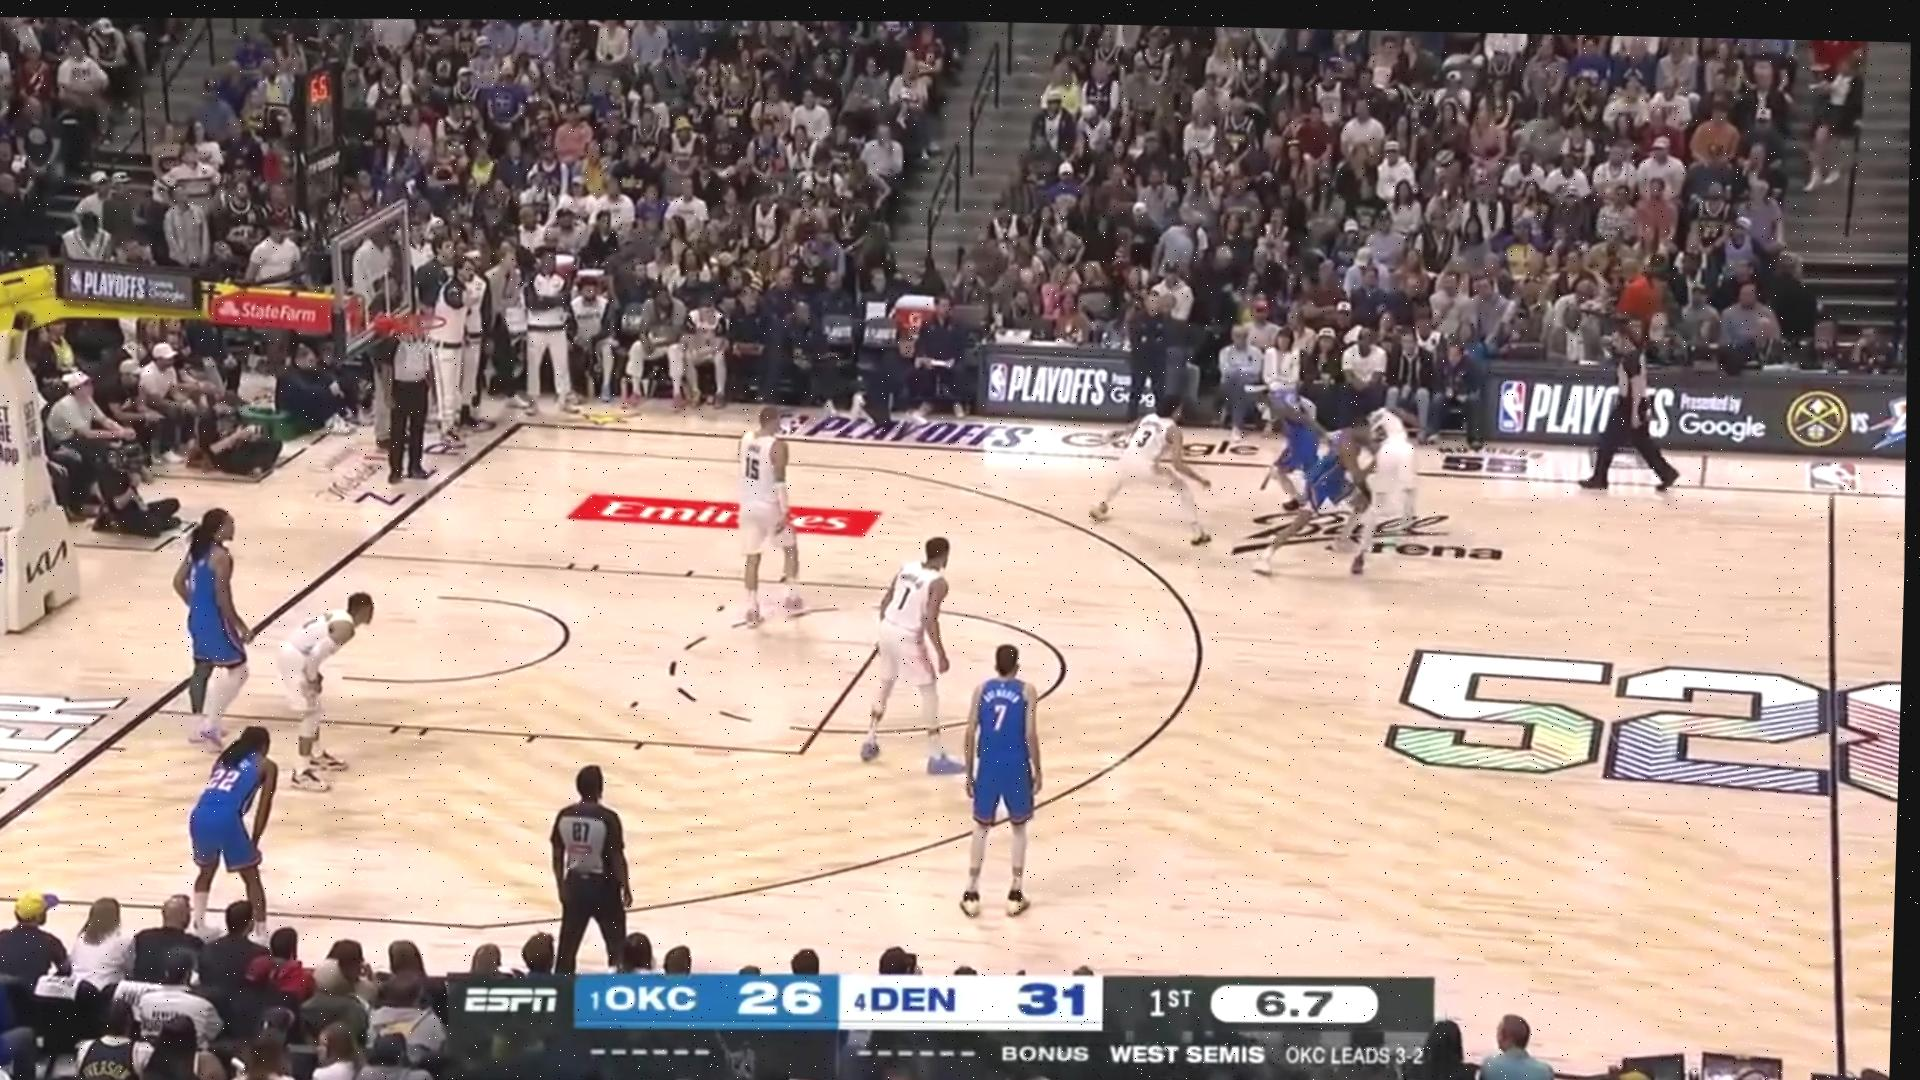foul: (1288, 382, 1452, 592)
